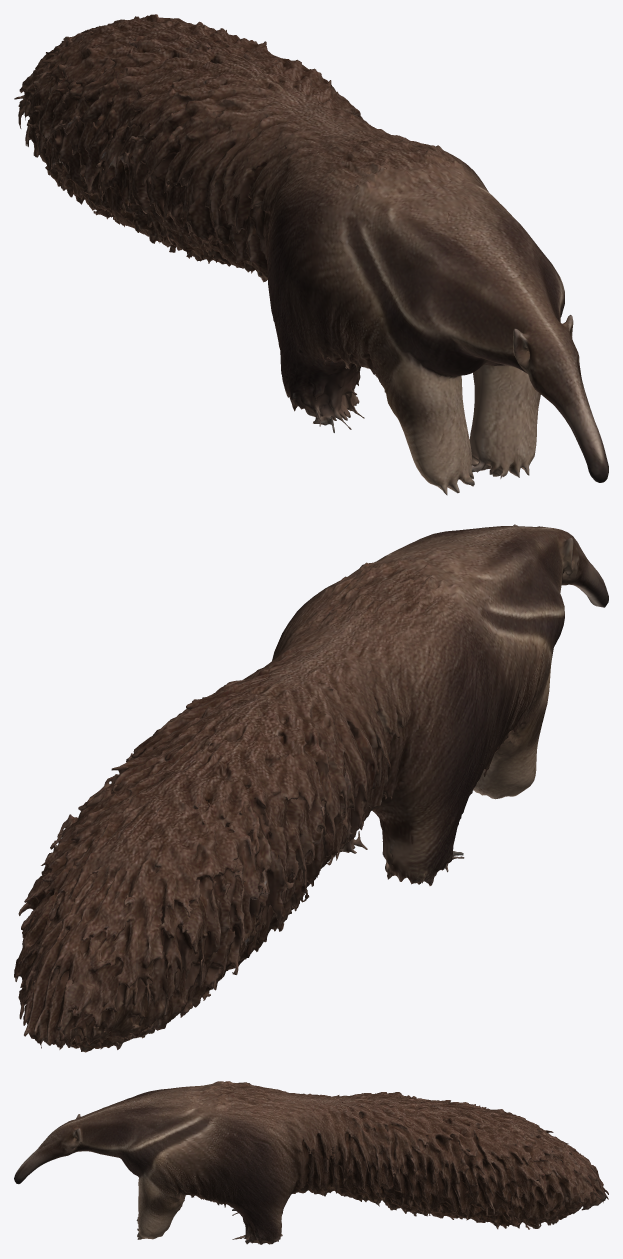
The model's file is tamandua_bandeira.glb.
3 views of the same model, one above another, from view 1: azimuth 30°, elevation 25°; view 2: azimuth 150°, elevation 25°; view 3: azimuth 270°, elevation 25° (orthographic). The views are drawn at different scales.
Size of the model in its own units: 0.4043 by 0.5005 by 1.89.
Materials: 1 (1 with a texture image).
